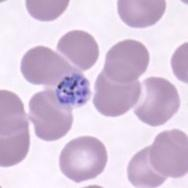Infected: (55, 73, 91, 108)
Uninfected: (94, 61, 142, 117), (134, 76, 180, 126), (58, 136, 108, 182), (29, 89, 73, 141), (21, 45, 75, 85), (106, 39, 150, 83), (149, 130, 188, 179), (127, 144, 168, 188), (55, 30, 100, 69), (116, 0, 166, 28)
